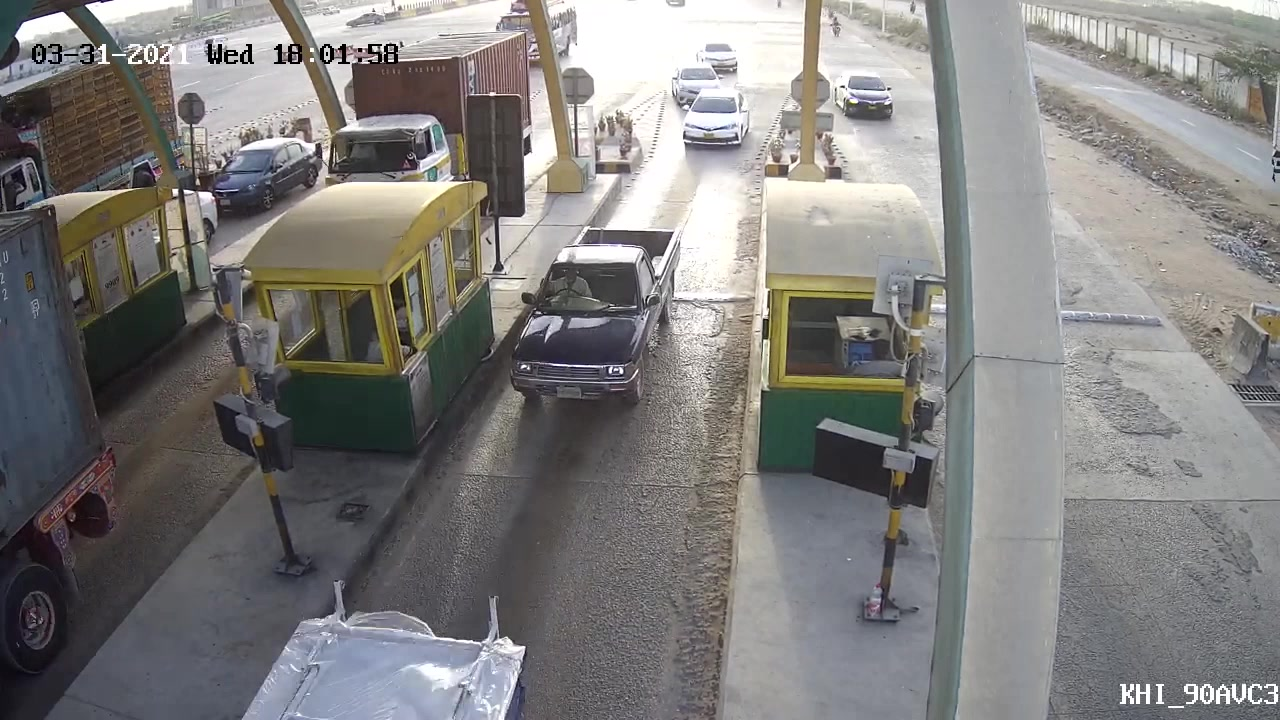F1: (503, 218, 689, 413)
